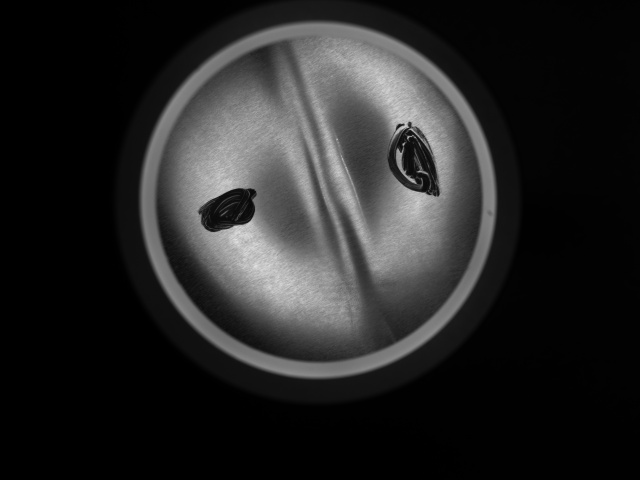zang_wu: (384, 120, 446, 199), (197, 186, 262, 233)
zhe_zhou: (193, 69, 445, 329)
